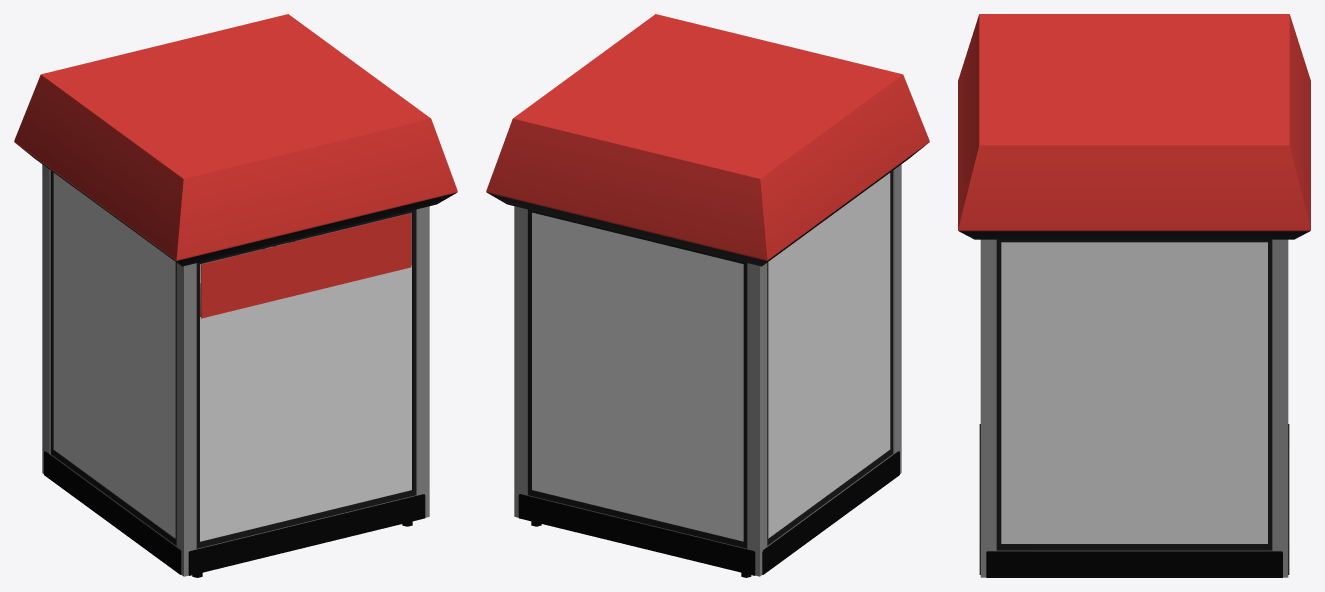
The model's file is Prop_PopcornMachine.fbx.
The picture shows the model from 3 angles, left to right: view 1: azimuth 30°, elevation 25°; view 2: azimuth 150°, elevation 25°; view 3: azimuth 270°, elevation 25°; orthographic projection. The views are drawn at different scales.
Parts seen in each view (by area): view 1: Baytek_Mall_Popcorn_Machine_Body; view 2: Baytek_Mall_Popcorn_Machine_Body; view 3: Baytek_Mall_Popcorn_Machine_Body.
Part boxes in pixels (x1,y1,x2,y2): Baytek_Mall_Popcorn_Machine_Body: [14, 14, 457, 577]; Baytek_Mall_Popcorn_Machine_Body: [486, 14, 929, 577]; Baytek_Mall_Popcorn_Machine_Body: [958, 14, 1310, 577].
Size of the model in its own units: 80 by 110 by 80.
